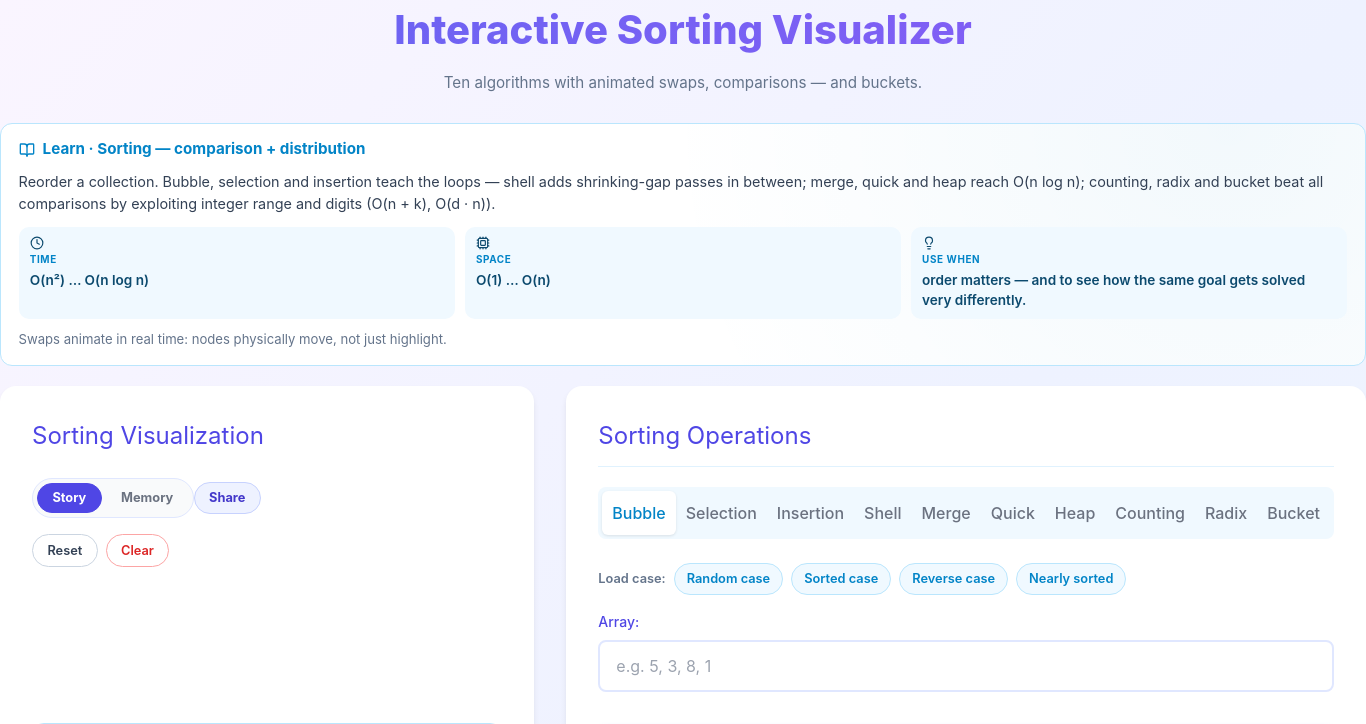
Test: sorting runs › loading a malformed array is refused with a guided error
Type "abc" into the field with placeholder "e.g. 5, 3, 8, 1" at (966, 666), box [598, 640, 1334, 692]
(page scrolled)
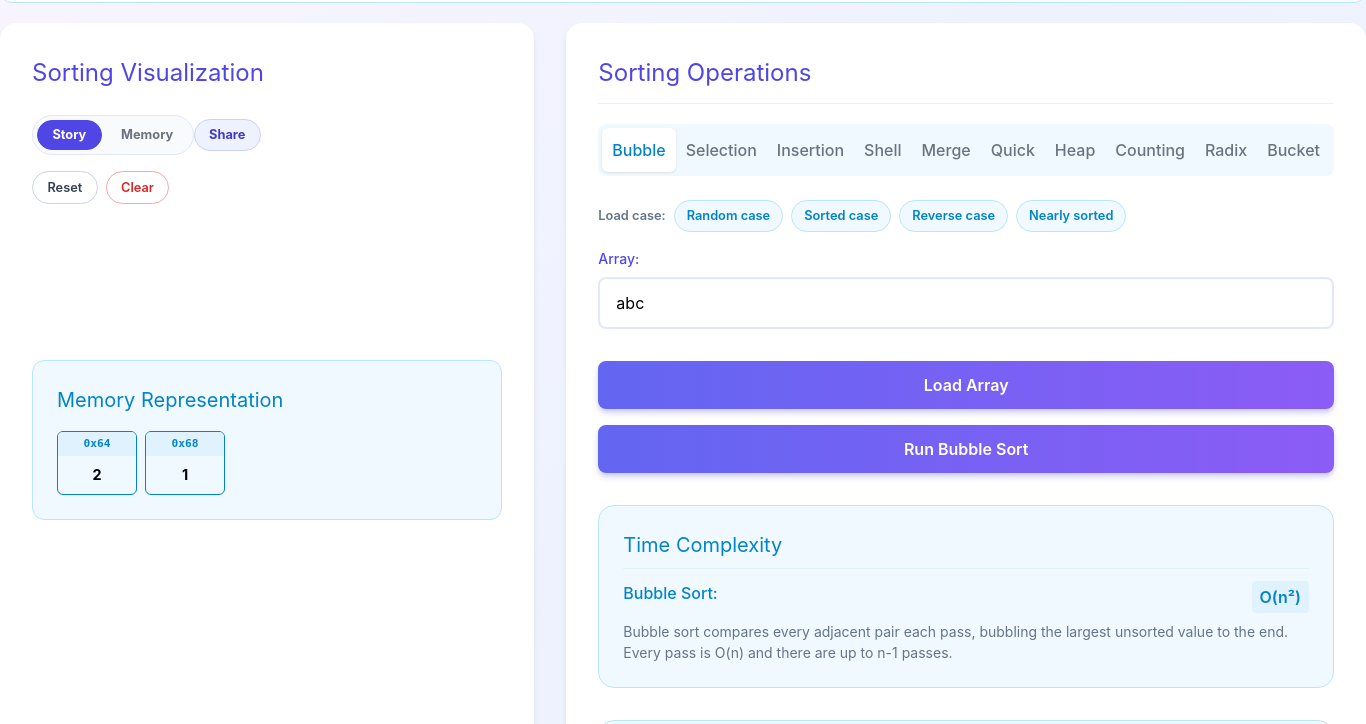
Click the button "Load Array" at (966, 385), box [598, 361, 1334, 409]
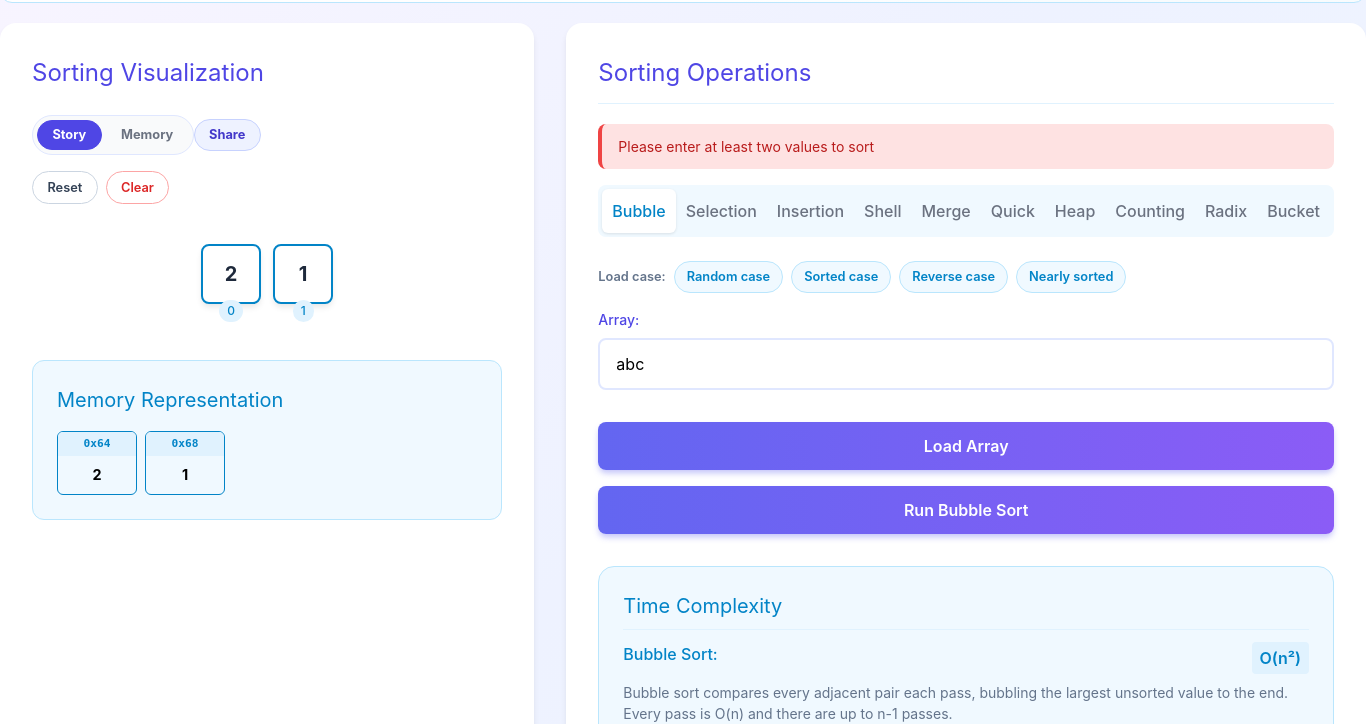
expect the text "Please enter at least two values to sort" is shown: met, box [598, 124, 1334, 168]
